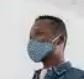with_facemask: (26, 40, 57, 63)
